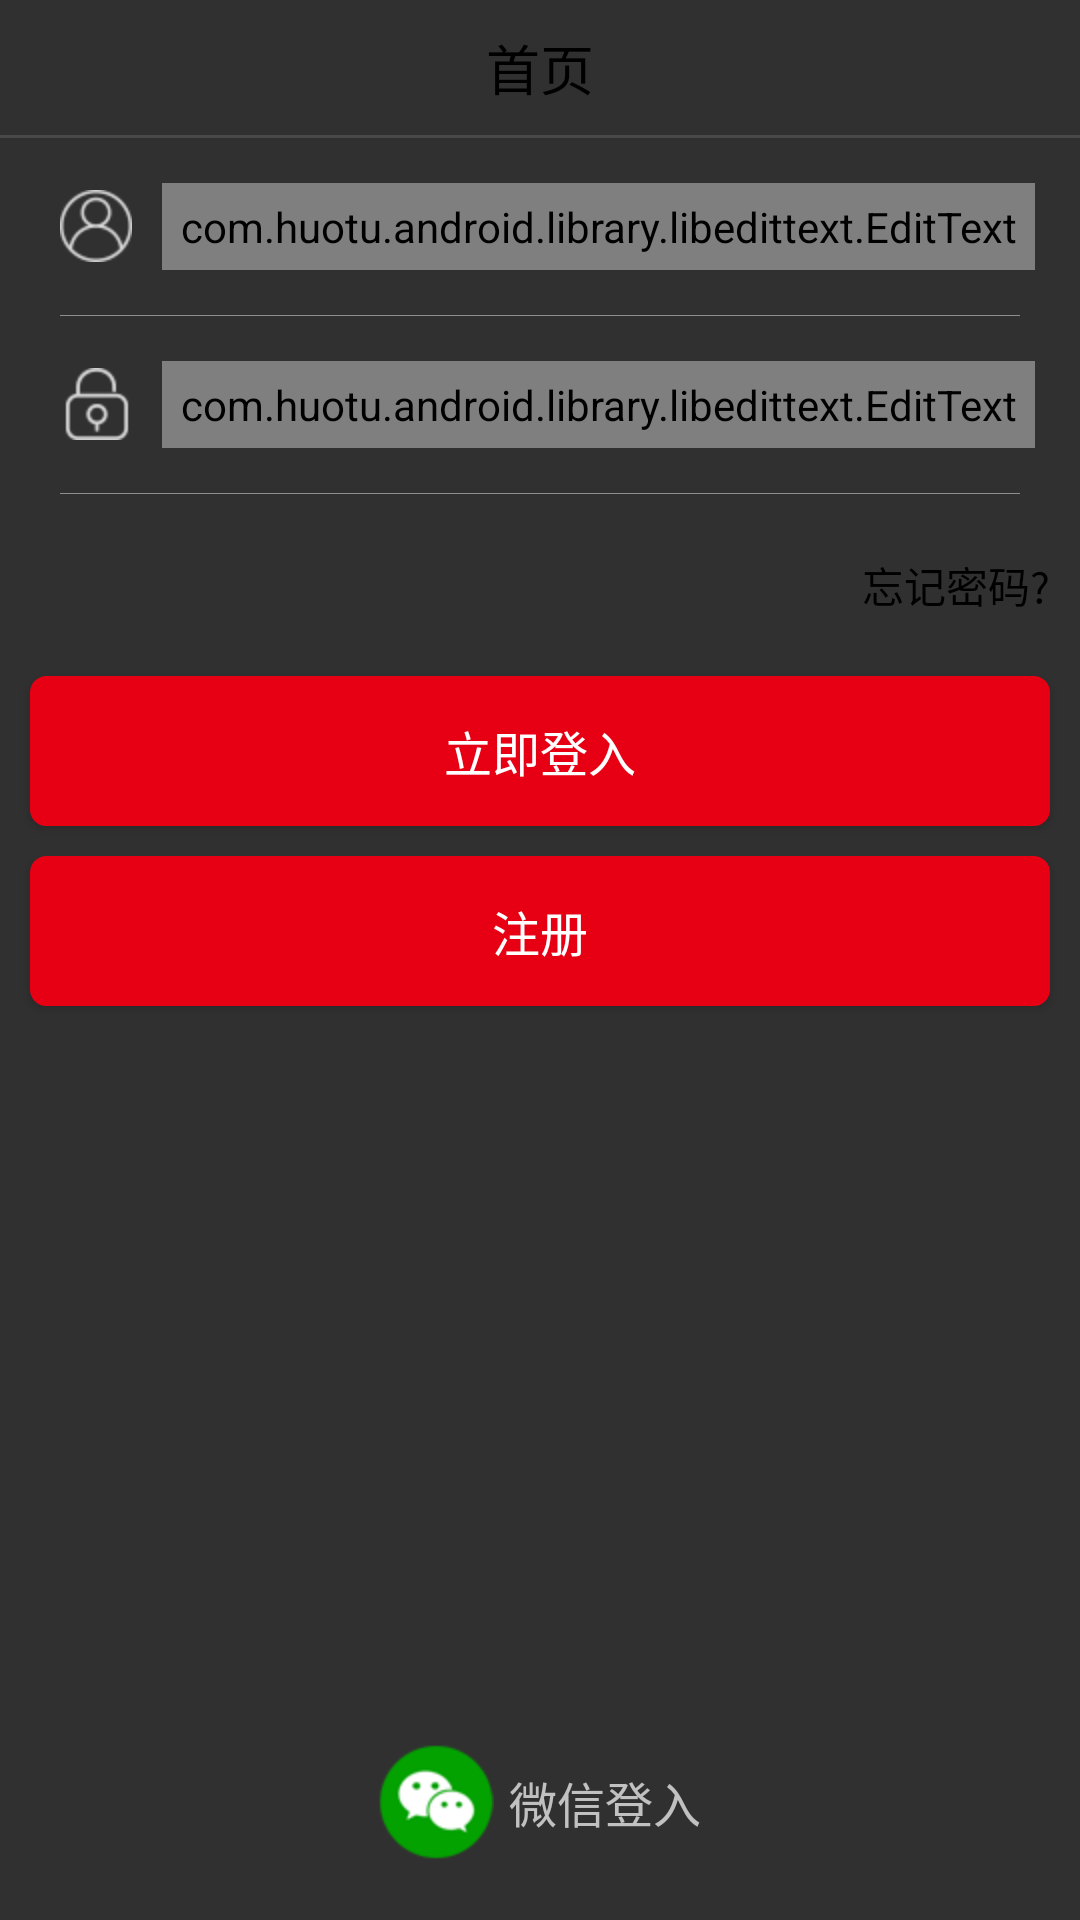

Named icons in this screenshot (1080 x 1920) and their centers, [x,y]:
user: [96,226]
